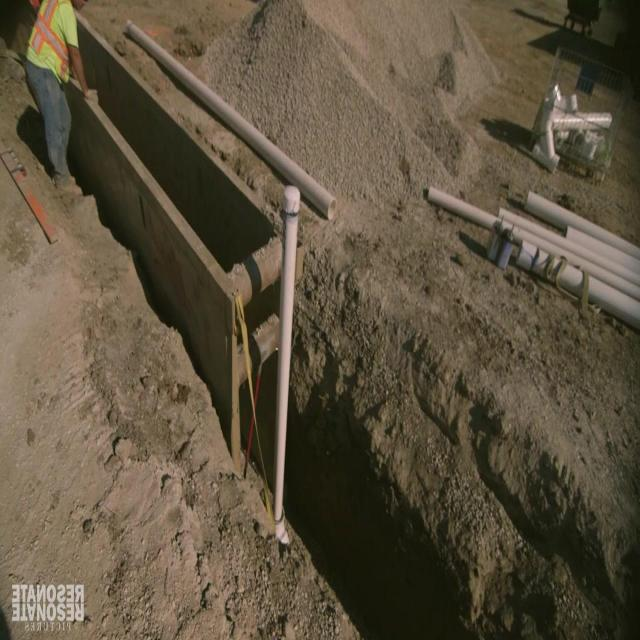Reflective-Jacket: (21, 1, 83, 91)
